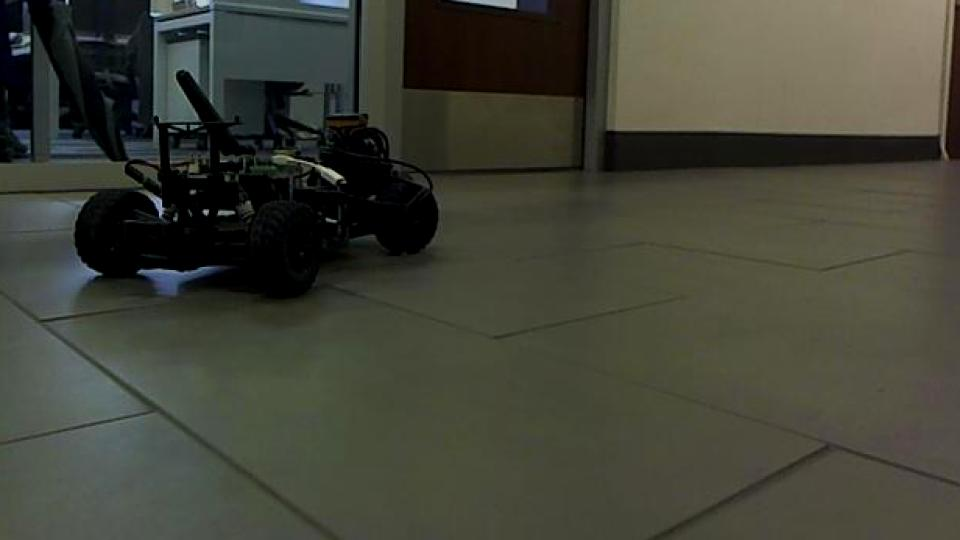car: (71, 67, 442, 300)
